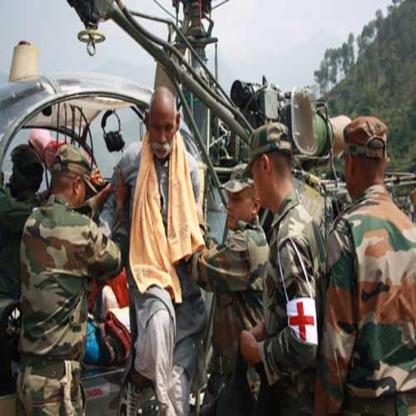face: (150, 106, 176, 160), (228, 179, 253, 230), (253, 150, 272, 207), (345, 144, 363, 200), (12, 157, 26, 194), (77, 174, 89, 210)
